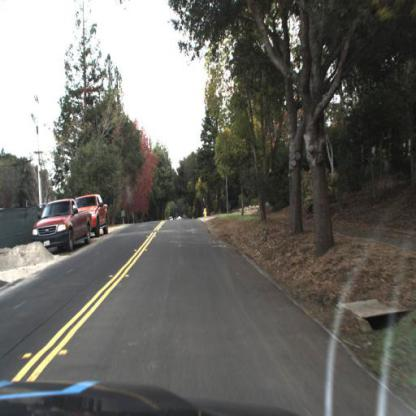car: (27, 198, 95, 256), (80, 192, 112, 241)
